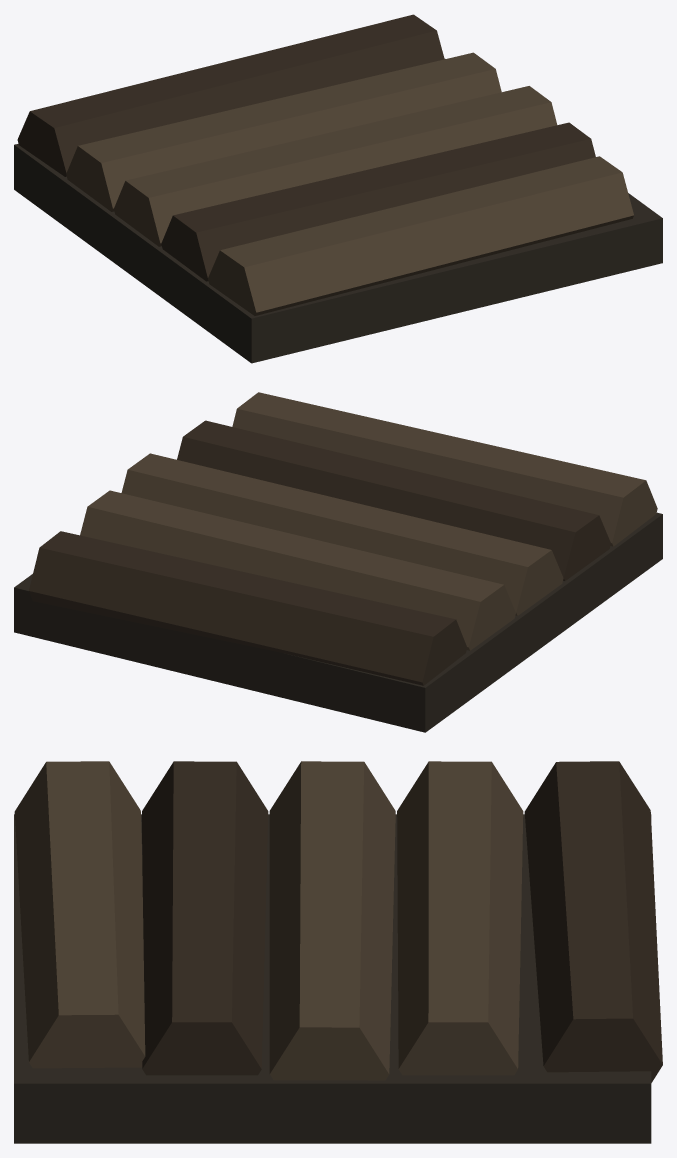
Rendered from tile_planks.glb.
The picture shows the model from 3 angles, top to bottom: view 1: azimuth 30°, elevation 25°; view 2: azimuth 150°, elevation 25°; view 3: azimuth 270°, elevation 25°; orthographic projection. The views are drawn at different scales.
Parts seen in each view (by area): view 1: tile_planks; view 2: tile_planks; view 3: tile_planks.
Boxes of the visible parts, left/top/right/bottom form: tile_planks: left=14, top=14, right=662, bottom=363; tile_planks: left=14, top=392, right=662, bottom=732; tile_planks: left=14, top=761, right=662, bottom=1143.
Size of the model in its own units: 0.96 by 0.1923 by 0.9774.
